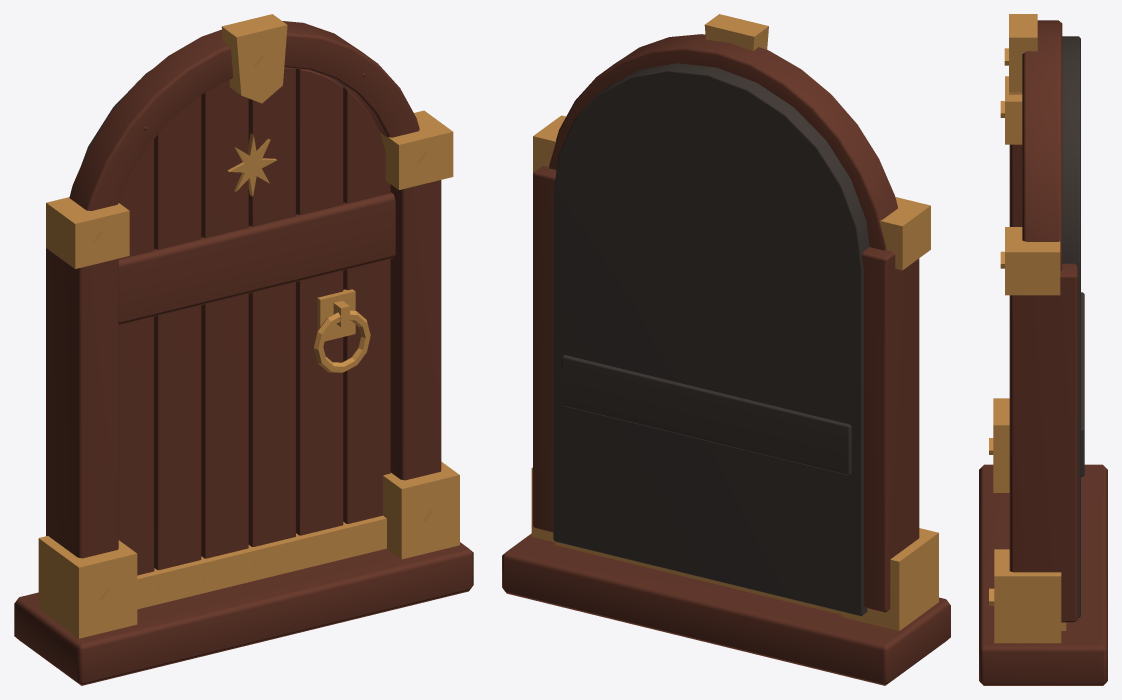
File: Salir.fbx
3 views of the same model, side by side, from view 1: azimuth 30°, elevation 25°; view 2: azimuth 150°, elevation 25°; view 3: azimuth 270°, elevation 25° (orthographic). The views are drawn at different scales.
Parts seen in each view (by area): view 1: SALIR_Tabla_06, SALIR_Jamba_derecha, Cube.012, SALIR_Plinto_madera, SALIR_Bisagra_02, SALIR_Anilla_tirador, CR_Estrella_tapa_superior.003; view 2: SALIR_Travesano_trasero, SALIR_Jamba_derecha, SALIR_Plinto_madera, Cube.012; view 3: SALIR_Jamba_derecha, SALIR_Plinto_madera, Cube.012, SALIR_Travesano_trasero.
Part boxes in pixels (x1,y1,x2,y2): SALIR_Tabla_06: [118, 67, 390, 575]; SALIR_Jamba_derecha: [46, 21, 441, 558]; Cube.012: [38, 14, 459, 638]; SALIR_Plinto_madera: [14, 542, 473, 685]; SALIR_Bisagra_02: [118, 192, 395, 324]; SALIR_Anilla_tirador: [314, 289, 370, 372]; CR_Estrella_tapa_superior.003: [227, 133, 276, 196]; SALIR_Travesano_trasero: [553, 63, 869, 616]; SALIR_Jamba_derecha: [533, 34, 919, 612]; SALIR_Plinto_madera: [502, 533, 950, 685]; Cube.012: [531, 14, 938, 630]; SALIR_Jamba_derecha: [1009, 20, 1078, 622]; SALIR_Plinto_madera: [979, 464, 1107, 685]; Cube.012: [989, 14, 1066, 643]; SALIR_Travesano_trasero: [1062, 36, 1084, 618].
Size of the model in its own units: 125 by 180 by 36.76.
